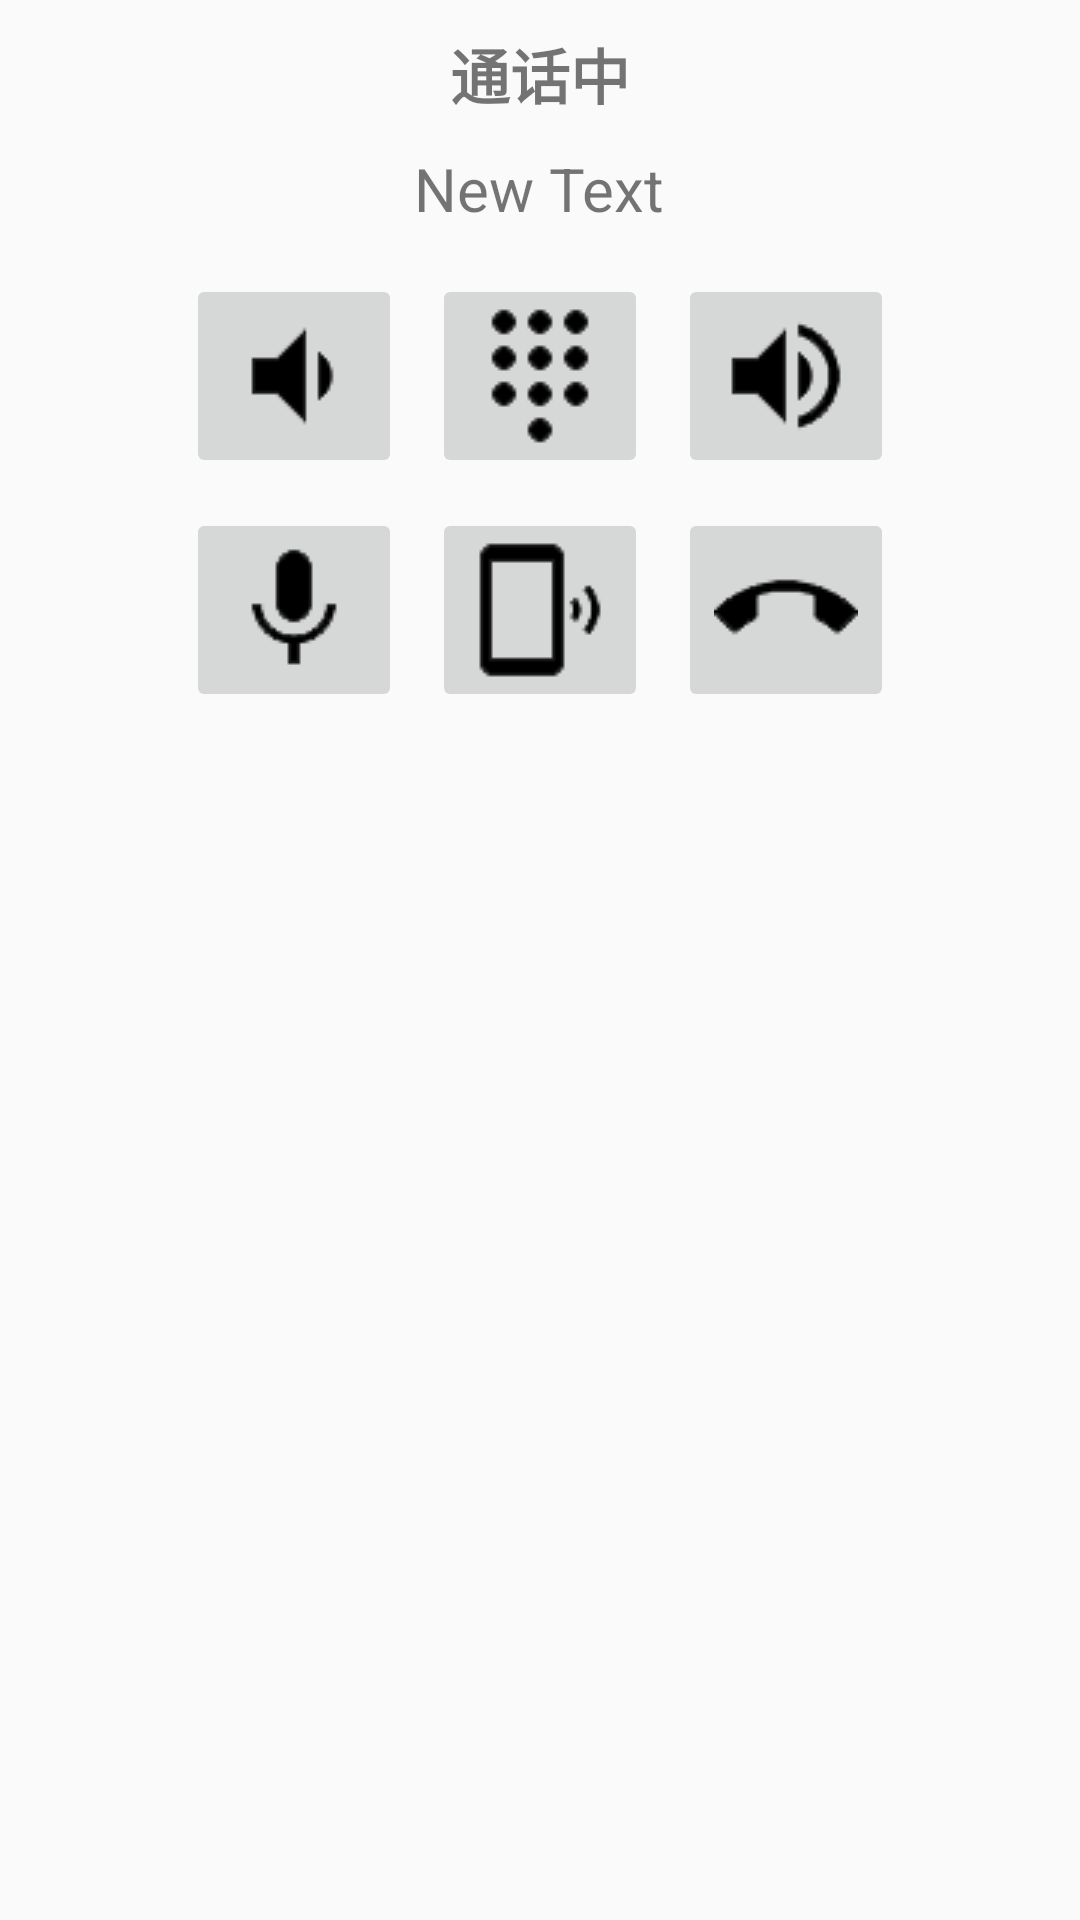

Icon bounding boxes for this 1080px x 1920px phone screenshot, format (x1, y1, x2, y2):
call end: (690, 526, 882, 694)
dialpad: (444, 292, 636, 460)
mic: (198, 526, 390, 694)
phonelink ring: (444, 526, 636, 694)
volume down: (198, 292, 390, 460)
volume up: (690, 292, 882, 460)
